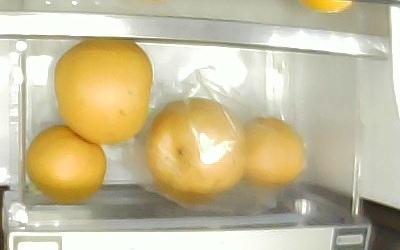pear: (54, 41, 152, 143), (26, 126, 105, 204)
pear_vinyl: (146, 97, 245, 203), (243, 117, 304, 188)
